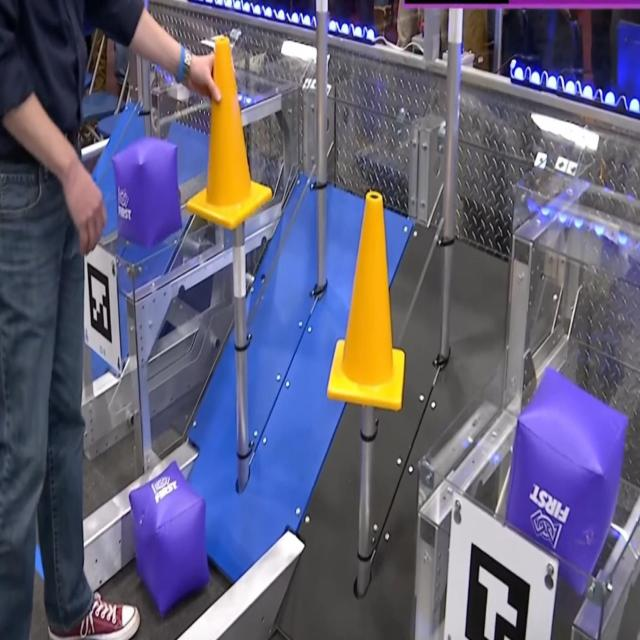frc_cone: (327, 192, 405, 412), (187, 36, 272, 229)
frc_cube: (506, 367, 626, 598), (129, 461, 210, 609), (113, 137, 183, 246)
